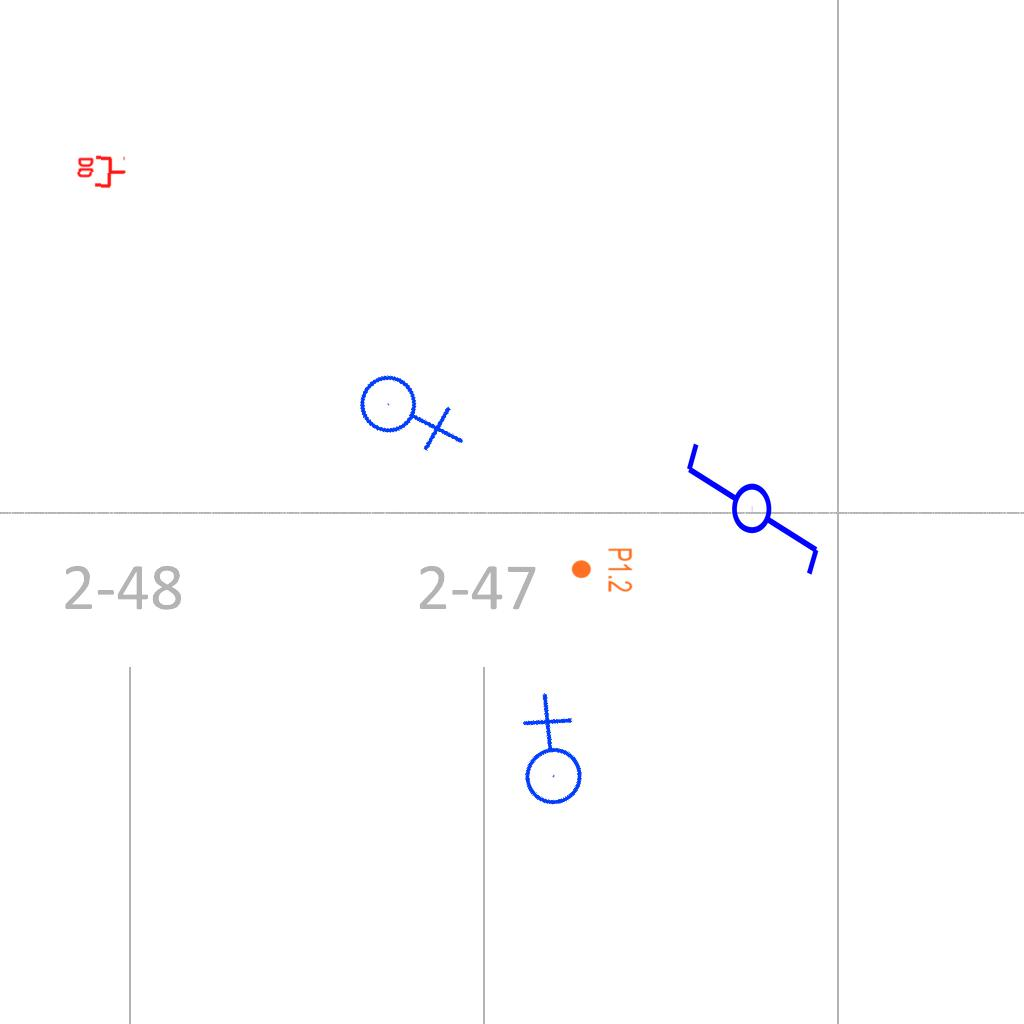Datenanschluss_zweifach: (75, 155, 127, 190)
Downlight_LED_Einbauleuchten_Flur: (570, 547, 634, 593)
Elektroanschluss_allgemein_230V_Geraeteanschlussdose_230V: (479, 688, 616, 824), (347, 347, 470, 473)
Wechselschalter: (682, 422, 826, 579)
